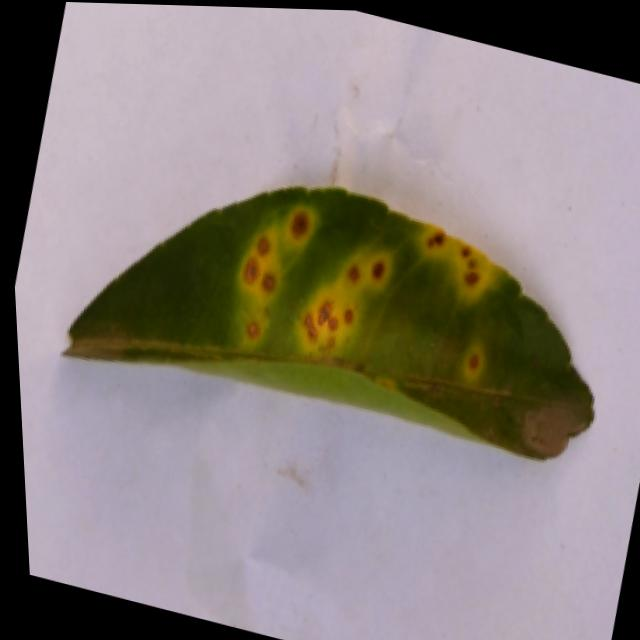canker: (65, 189, 591, 460), (203, 194, 415, 389), (381, 200, 522, 320), (444, 319, 511, 398)
